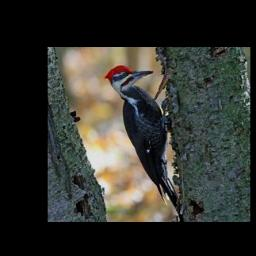Woodpecker: (103, 63, 181, 220)
